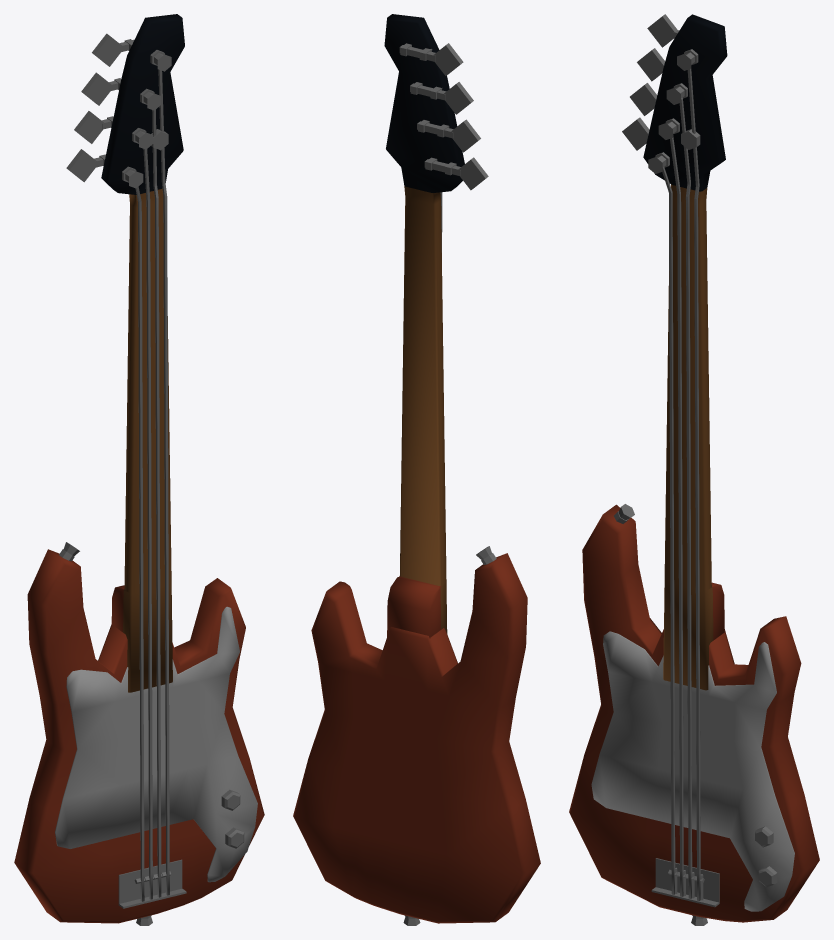
File: bass.glb
The picture shows the model from 3 angles, left to right: view 1: azimuth 30°, elevation 25°; view 2: azimuth 150°, elevation 25°; view 3: azimuth 330°, elevation 25°; orthographic projection.
Parts seen in each view (by area): view 1: Bass_Body, Bass_String_G2, Bass_String_D2, Bass_String_A1, Bass_String_E1; view 2: Bass_Body; view 3: Bass_Body, Bass_String_G2, Bass_String_D2, Bass_String_A1, Bass_String_E1.
Part boxes in pixels (bbox=[...]): Bass_Body: bbox=[14, 14, 264, 925]; Bass_String_G2: bbox=[158, 69, 169, 895]; Bass_String_D2: bbox=[152, 109, 161, 897]; Bass_String_A1: bbox=[143, 149, 152, 899]; Bass_String_E1: bbox=[135, 186, 144, 901]; Bass_Body: bbox=[293, 14, 540, 925]; Bass_Body: bbox=[569, 14, 819, 925]; Bass_String_G2: bbox=[687, 68, 700, 900]; Bass_String_D2: bbox=[679, 97, 692, 898]; Bass_String_A1: bbox=[670, 135, 683, 896]; Bass_String_E1: bbox=[662, 167, 675, 894].
Bounding box in the file's own units: 1.09 × 4 × 0.21.
